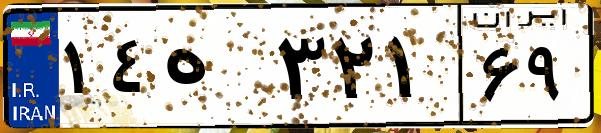1: (385, 28, 445, 110), (57, 26, 110, 100)
2: (330, 28, 385, 110)
3: (270, 28, 330, 110)
4: (110, 28, 158, 98)
6: (475, 38, 525, 113)
9: (525, 38, 570, 115)
ه: (158, 20, 270, 120)
